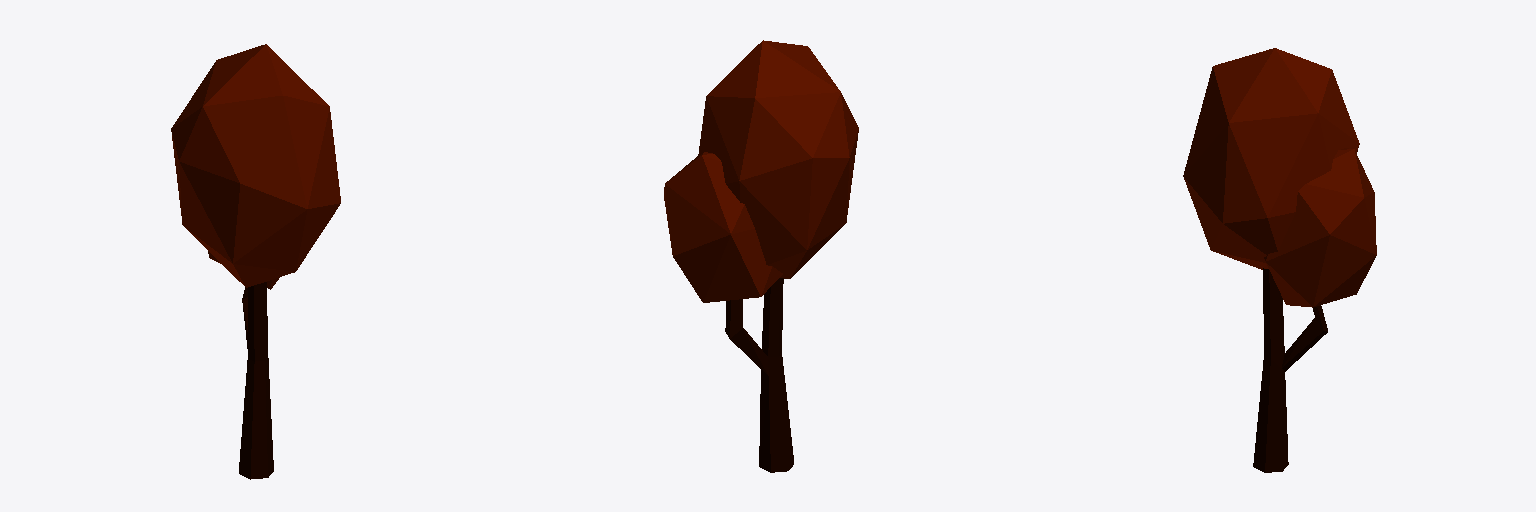
Rendered from tree2.obj.
3 renders of one model, left to right at view 1: azimuth 30°, elevation 25°; view 2: azimuth 150°, elevation 25°; view 3: azimuth 270°, elevation 25°, orthographic.
Visible parts, largest first — view 1: Icosphere.001_Icosphere.015, Cylinder.001_Cylinder.007; view 2: Icosphere.001_Icosphere.015, Cylinder.001_Cylinder.007; view 3: Icosphere.001_Icosphere.015, Cylinder.001_Cylinder.007.
Part boxes in pixels (x1,y1,x2,y2): Icosphere.001_Icosphere.015: (171, 44, 340, 289); Cylinder.001_Cylinder.007: (239, 282, 273, 479); Icosphere.001_Icosphere.015: (664, 40, 858, 302); Cylinder.001_Cylinder.007: (725, 278, 793, 472); Icosphere.001_Icosphere.015: (1183, 48, 1376, 307); Cylinder.001_Cylinder.007: (1253, 268, 1327, 472).
Size of the model in its own units: 5.97 by 15.24 by 6.31.